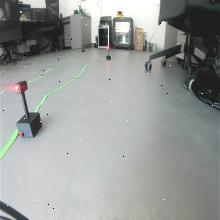red: (14, 80, 28, 94)
